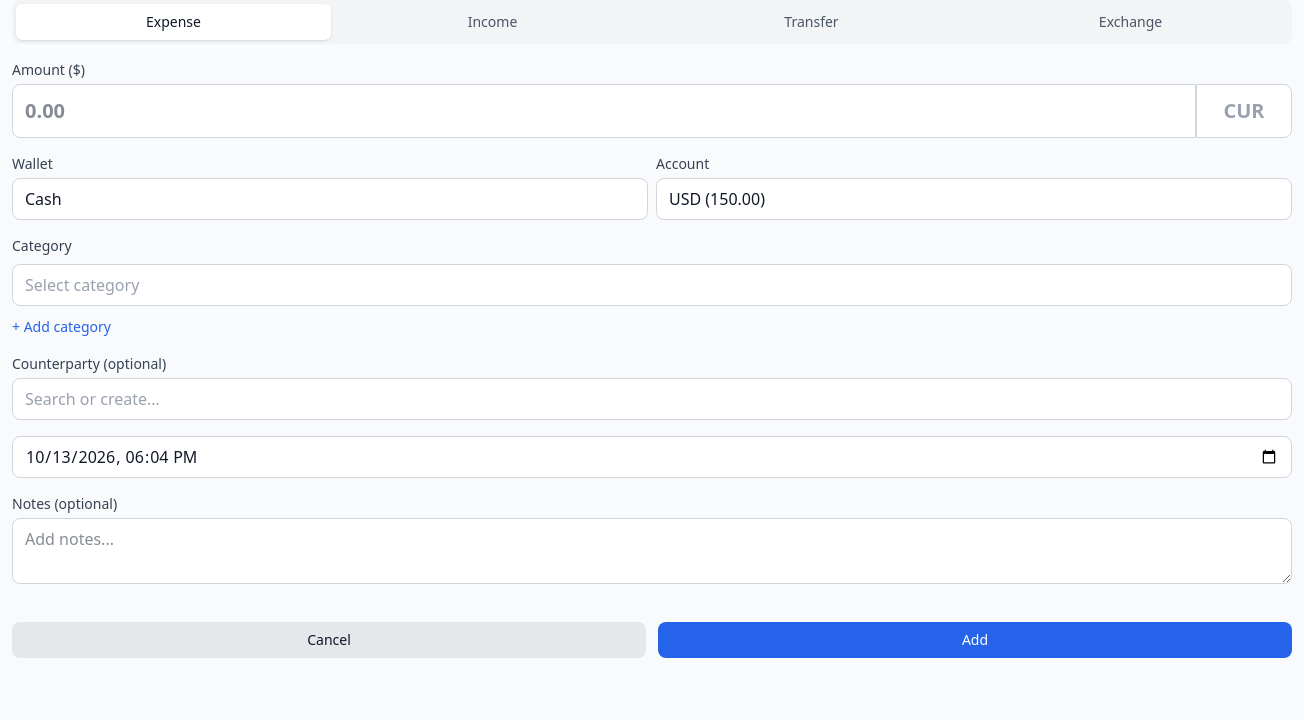
Scenario: TransactionForm › Category/Tag selection › hides category field for transfer type
Expected: the text "Category" is shown, [12, 236, 72, 255]
Click the button "Transfer": point(812, 22) [654, 4, 969, 40]
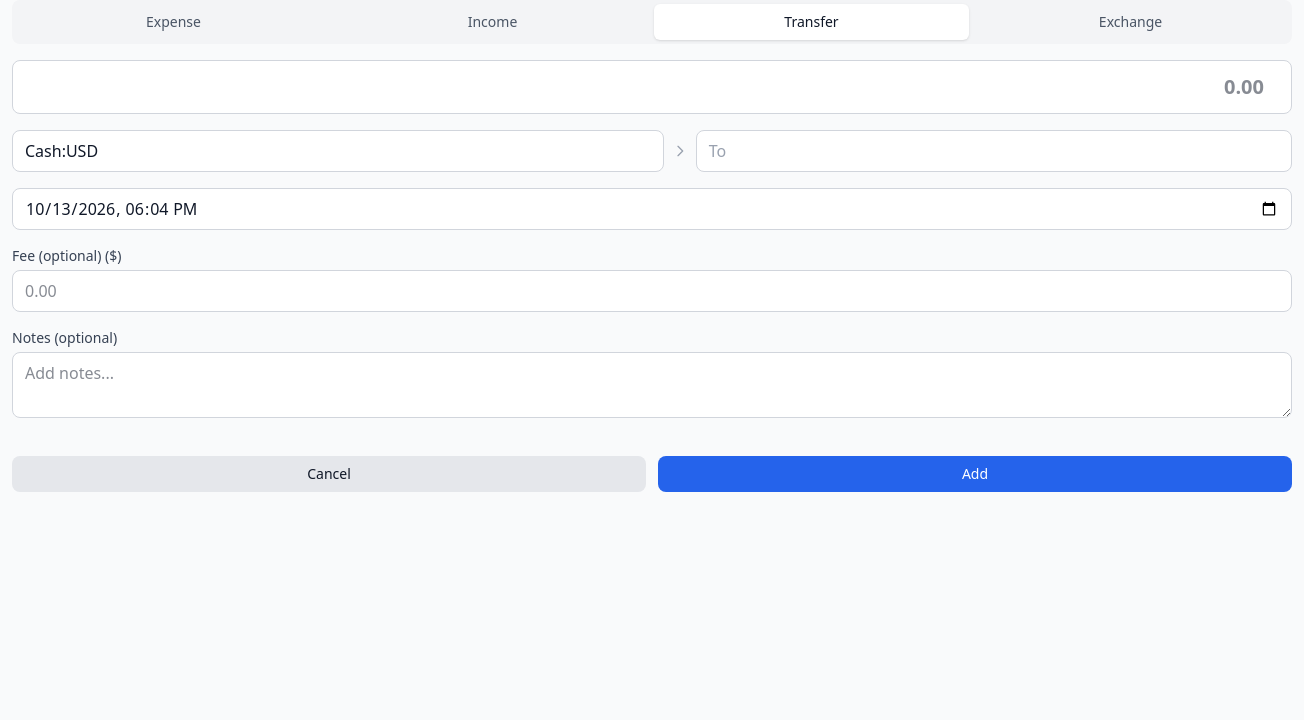
Expected: the text "Category" is gone
